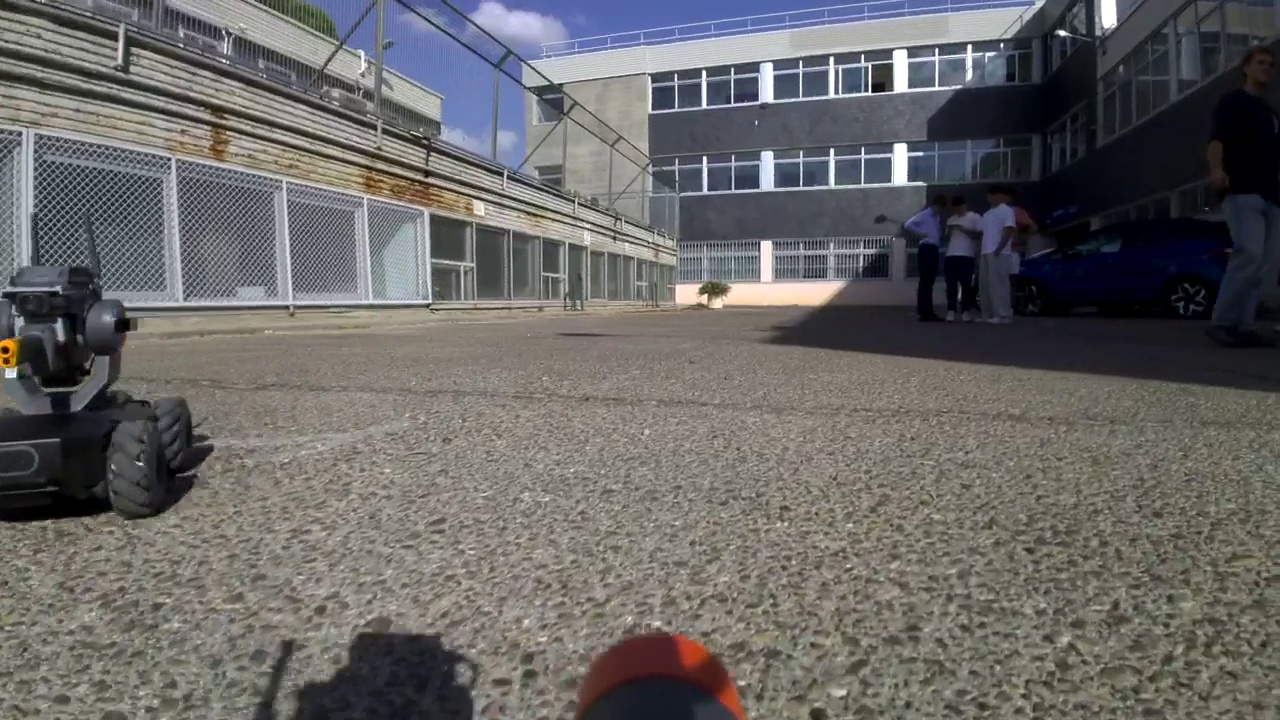robot: (2, 210, 195, 517)
